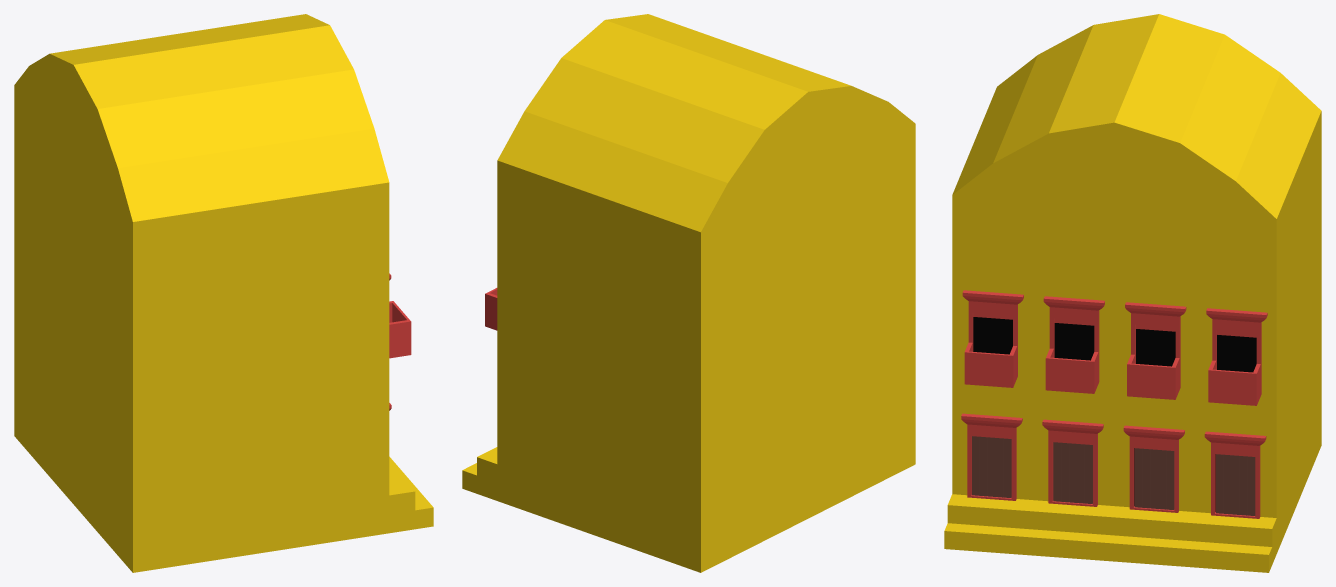
Rendered from Hotel1.fbx.
3 renders of one model, left to right at view 1: azimuth 30°, elevation 25°; view 2: azimuth 150°, elevation 25°; view 3: azimuth 270°, elevation 25°, orthographic. The views are drawn at different scales.
Visible parts, largest first — view 1: Cube.010; view 2: Cube.010; view 3: Cube.010.
Part boxes in pixels (x1=…): Cube.010: x1=14, y1=14, x2=433, y2=572; Cube.010: x1=462, y1=14, x2=915, y2=572; Cube.010: x1=944, y1=14, x2=1321, y2=572.
Size of the model in its own units: 1894 by 2451 by 1996.
